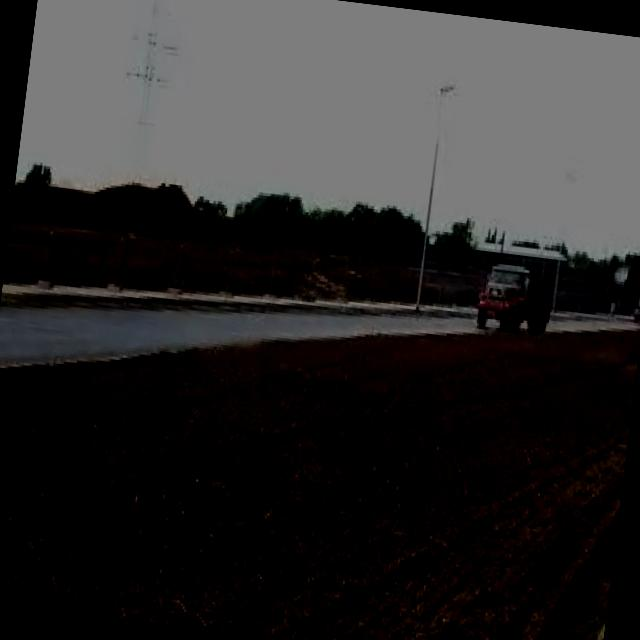Vehicle: (472, 258, 558, 334), (631, 283, 640, 323)
